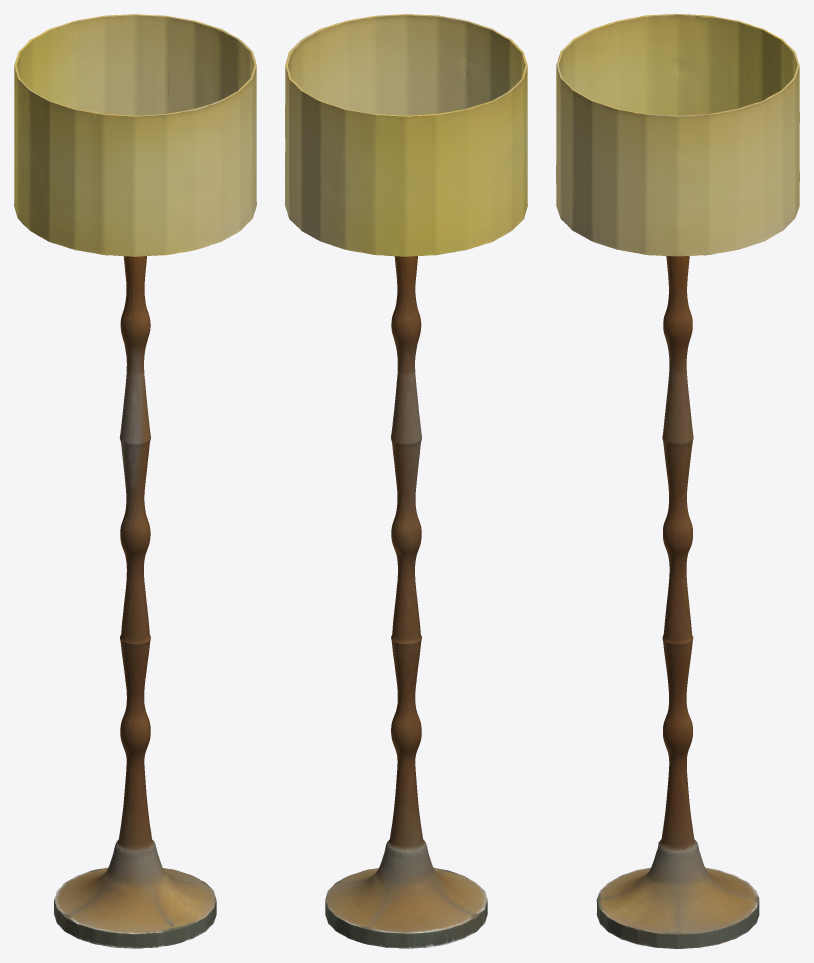
Rendered from lamp.glb.
3 views of the same model, side by side, from view 1: azimuth 30°, elevation 25°; view 2: azimuth 150°, elevation 25°; view 3: azimuth 270°, elevation 25° (orthographic).
Parts seen in each view (by area): view 1: model; view 2: model; view 3: model.
Boxes of the visible parts, x1,y1,x2,y2 form: model: [14, 14, 256, 948]; model: [285, 14, 527, 948]; model: [556, 14, 799, 948].
Size of the model in its own units: 0.2597 by 1 by 0.2598.
1 material, 1 textured.
